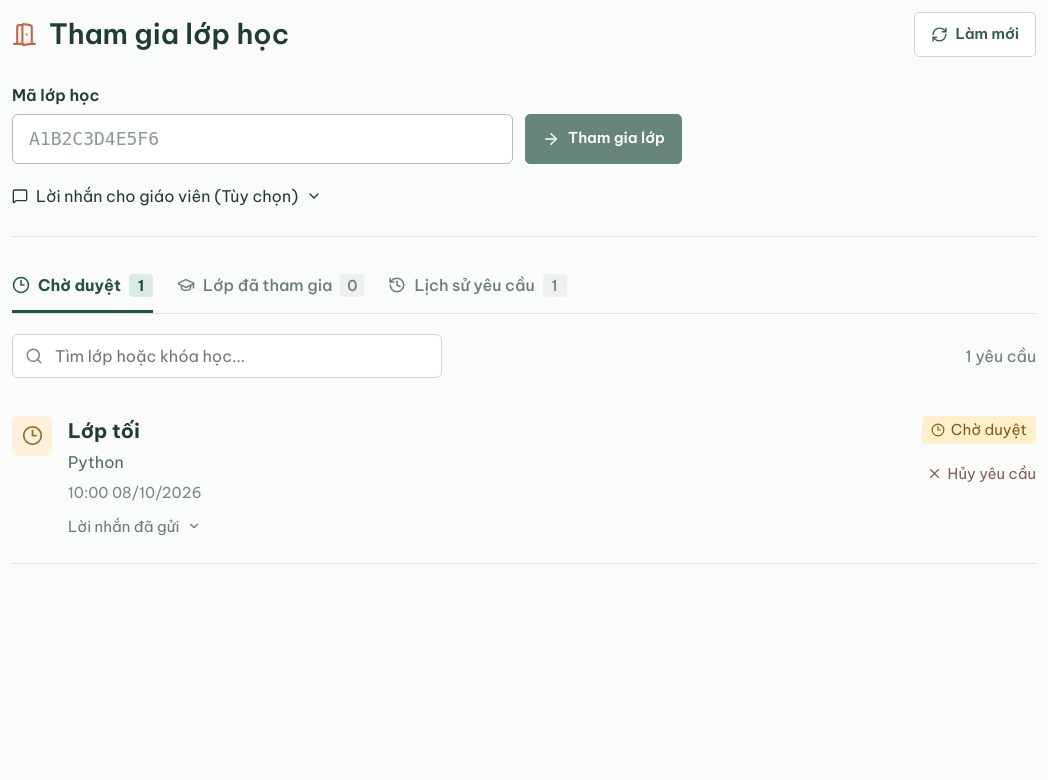
Test: enrollment workflows › shows invalid code errors without claiming success
This screenshot has width=1048, height=780.
Type "FFFFFFFFFFFF" into the field labelled "Mã lớp học".
click(262, 138); type("FFFFFFFFFFFF")  # box [12,114,513,164]
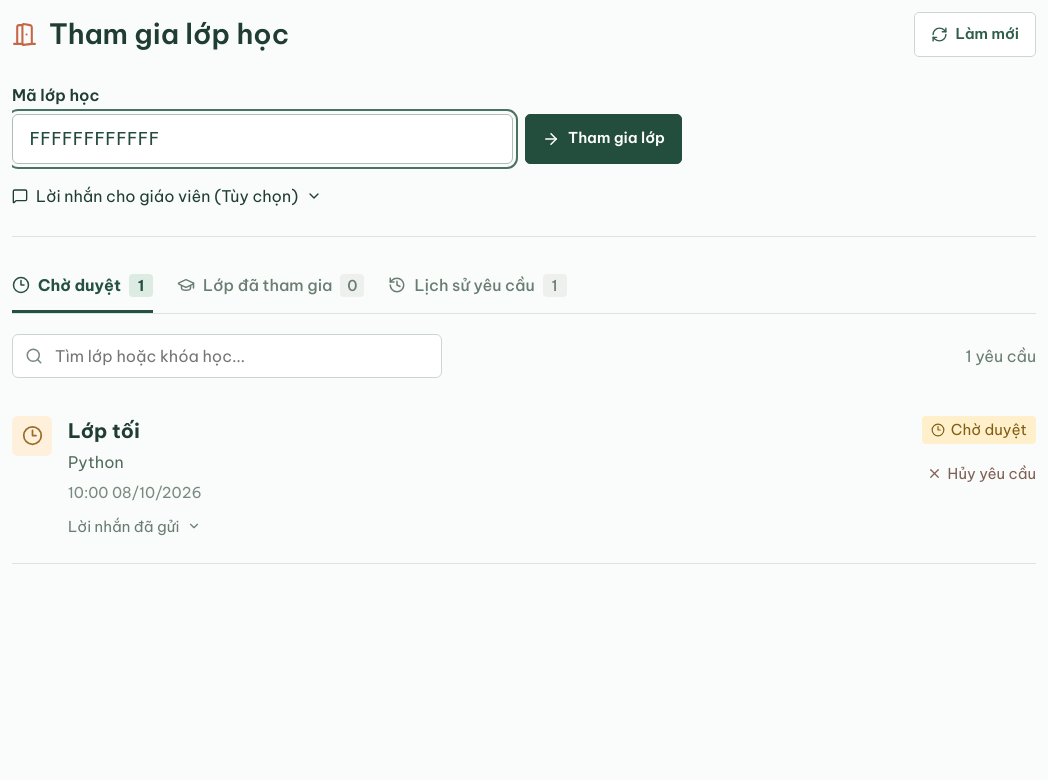
Click the button "Tham gia lớp".
click(604, 138)  # box [525,114,682,164]
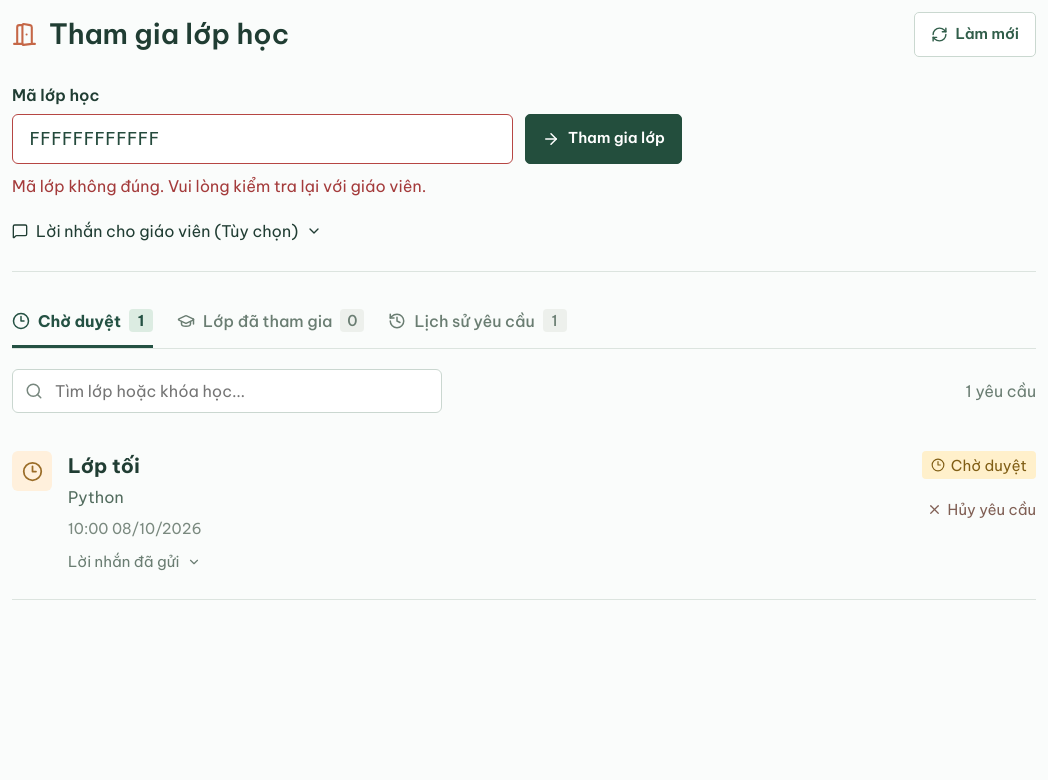
Expected: the message shows "Mã lớp không đúng", [12,176,426,196]
